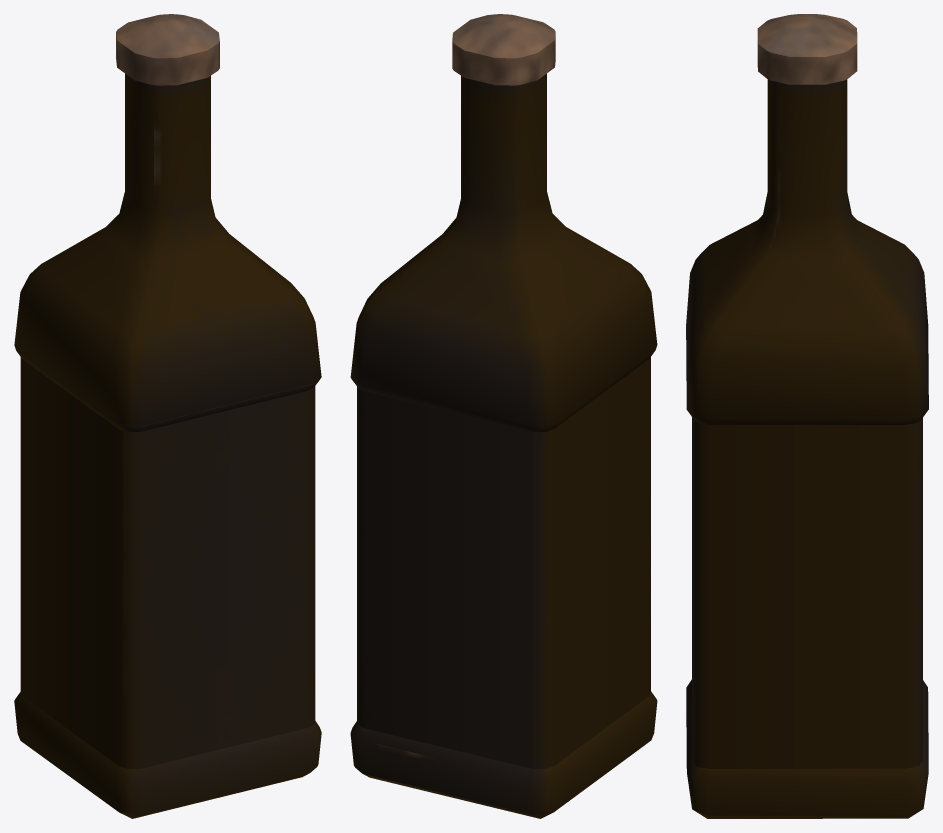
The model's file is whiskey_bottle_lowpoly.gltf.
3 views of the same model, side by side, from view 1: azimuth 30°, elevation 25°; view 2: azimuth 150°, elevation 25°; view 3: azimuth 270°, elevation 25° (orthographic). The views are drawn at different scales.
Visible parts, largest first — view 1: Whiskey; view 2: Whiskey; view 3: Whiskey.
Part boxes in pixels (x1,y1,x2,y2): Whiskey: [14, 14, 321, 818]; Whiskey: [350, 14, 657, 818]; Whiskey: [686, 14, 928, 818].
Bounding box in the file's own units: 0.2068 × 0.71 × 0.2068.
1 material, 1 textured.
